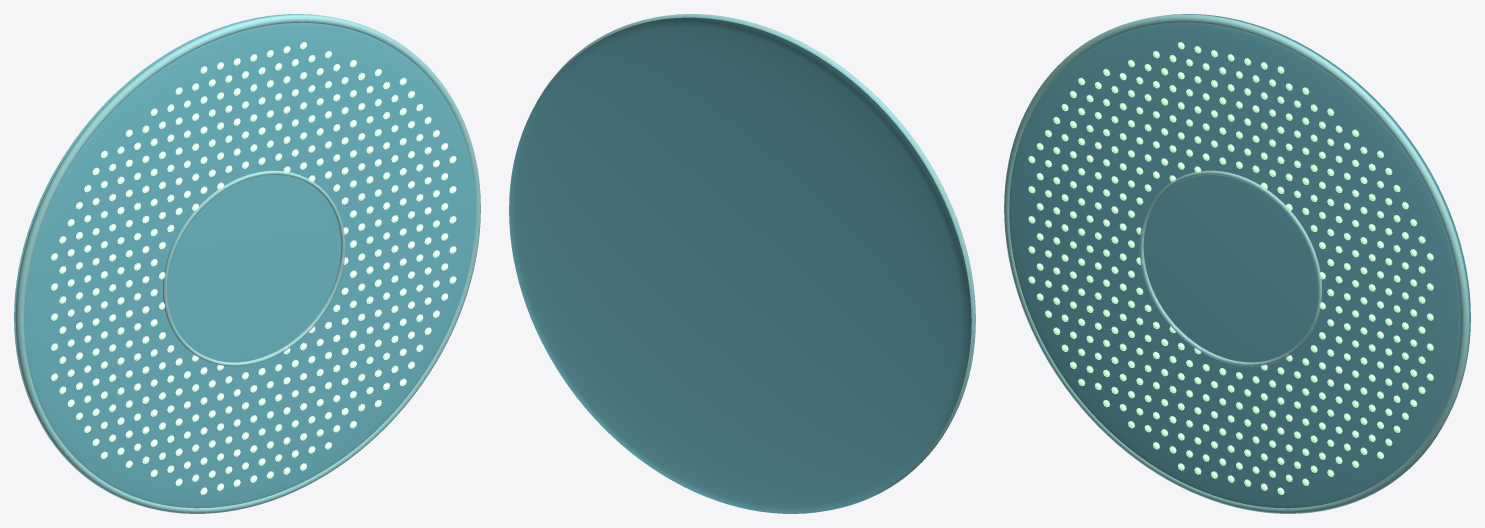
The model's file is miyosmart-lens.glb.
3 views of the same model, side by side, from view 1: azimuth 30°, elevation 25°; view 2: azimuth 150°, elevation 25°; view 3: azimuth 330°, elevation 25° (orthographic).
Parts seen in each view (by area): view 1: MiYOSMART optical lens body, D.I.M.S. honeycomb microsegments, Lens edge highlight, Central zone boundary; view 2: MiYOSMART optical lens body, Lens edge highlight; view 3: MiYOSMART optical lens body, D.I.M.S. honeycomb microsegments, Lens edge highlight, Central zone boundary.
Boxes of the visible parts, x1,y1,x2,y2 form: MiYOSMART optical lens body: (14, 14, 475, 508); D.I.M.S. honeycomb microsegments: (51, 42, 456, 494); Lens edge highlight: (15, 14, 480, 513); Central zone boundary: (162, 170, 345, 366); MiYOSMART optical lens body: (509, 17, 971, 513); Lens edge highlight: (533, 14, 975, 510); MiYOSMART optical lens body: (1009, 14, 1470, 508); D.I.M.S. honeycomb microsegments: (1028, 42, 1433, 494); Lens edge highlight: (1004, 14, 1469, 513); Central zone boundary: (1139, 170, 1322, 366).
Size of the model in its own units: 4.48 by 4.48 by 0.2571.
